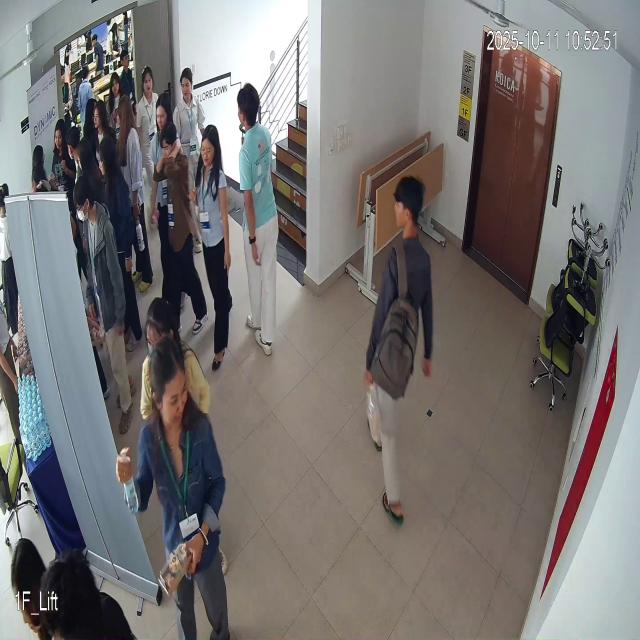face: (148, 333, 192, 427), (390, 167, 427, 240), (198, 120, 223, 175)
